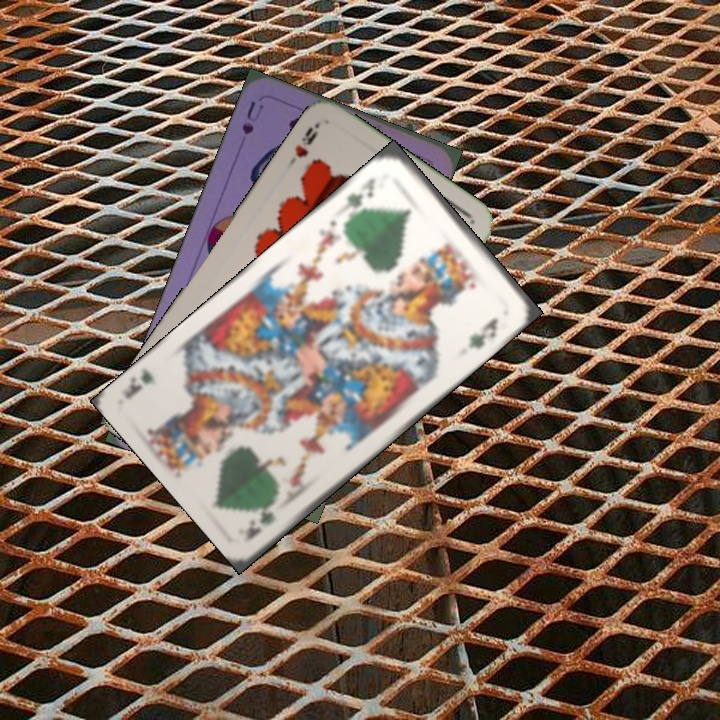GK: (241, 494, 282, 543), (339, 174, 379, 217)
H9: (283, 119, 323, 171)
SU: (237, 97, 266, 138)
